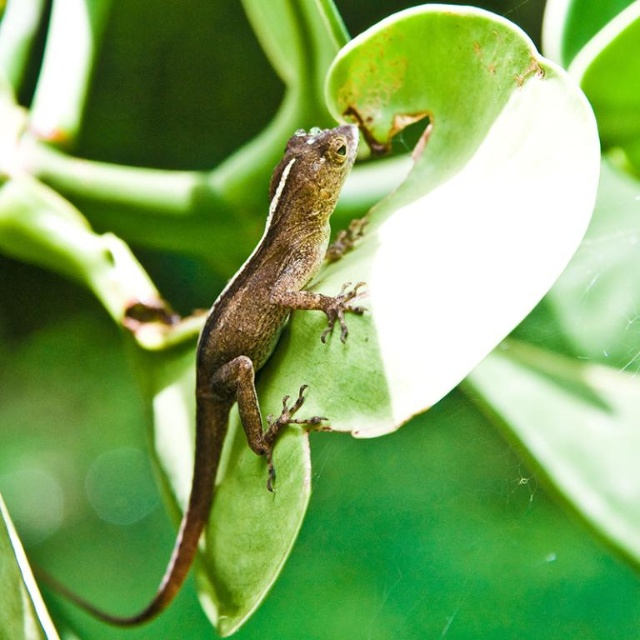Lizard: (138, 137, 375, 591)
